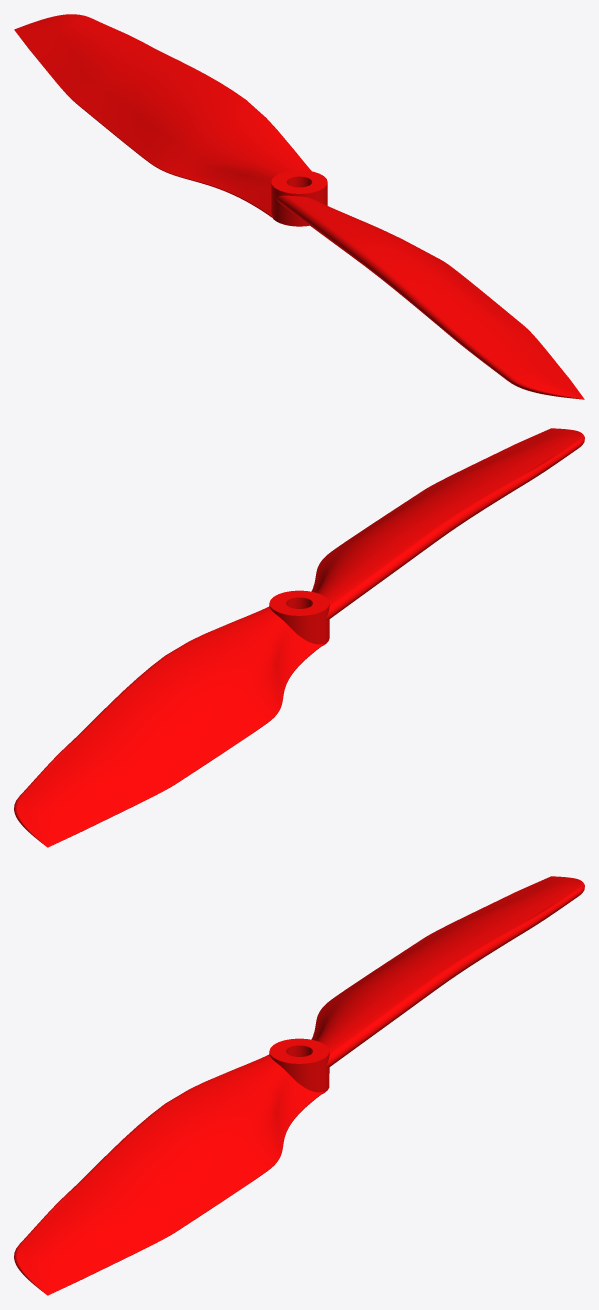
The picture shows the model from 3 angles, top to bottom: view 1: azimuth 30°, elevation 25°; view 2: azimuth 150°, elevation 25°; view 3: azimuth 330°, elevation 25°; orthographic projection. The views are drawn at different scales.
Visible parts, largest first — view 1: PROPELLER - 8x4.5 CW; view 2: PROPELLER - 8x4.5 CW; view 3: PROPELLER - 8x4.5 CW.
Part boxes in pixels (x1,y1,x2,y2): PROPELLER - 8x4.5 CW: [14, 14, 584, 399]; PROPELLER - 8x4.5 CW: [14, 428, 584, 847]; PROPELLER - 8x4.5 CW: [14, 876, 584, 1295].
Size of the model in its own units: 0.0269 by 0.2032 by 0.00901.
